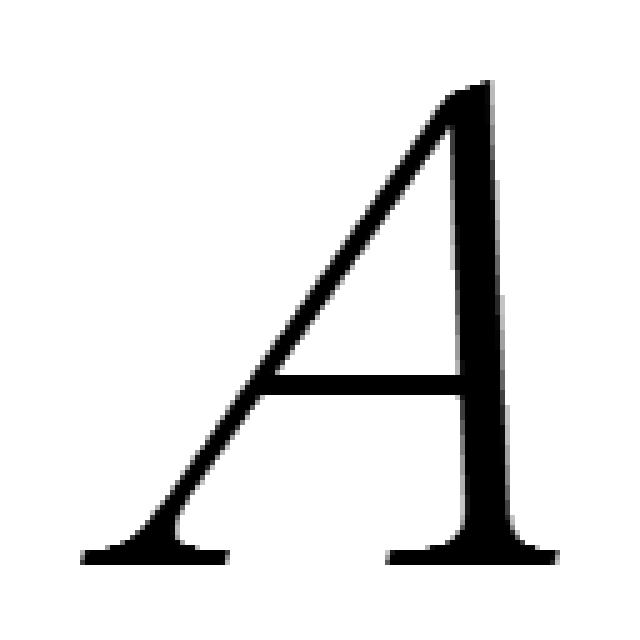A: (75, 70, 565, 575)
